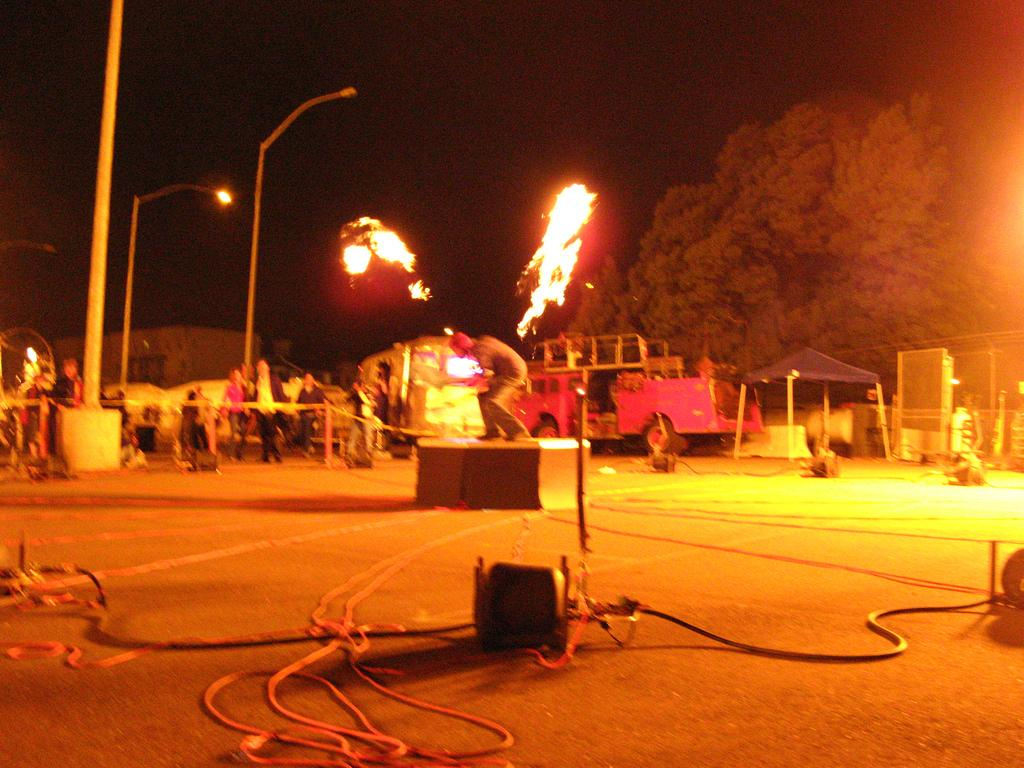fire: (536, 194, 586, 306), (352, 220, 404, 272)
